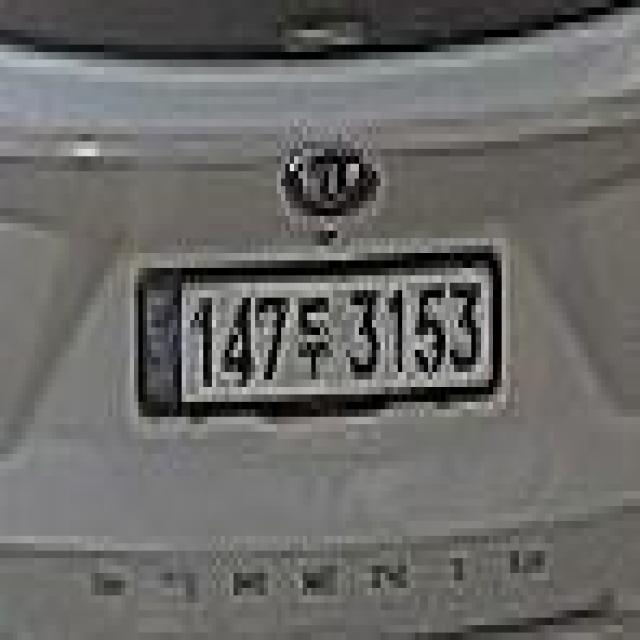illegal_plate: (134, 250, 506, 421)
